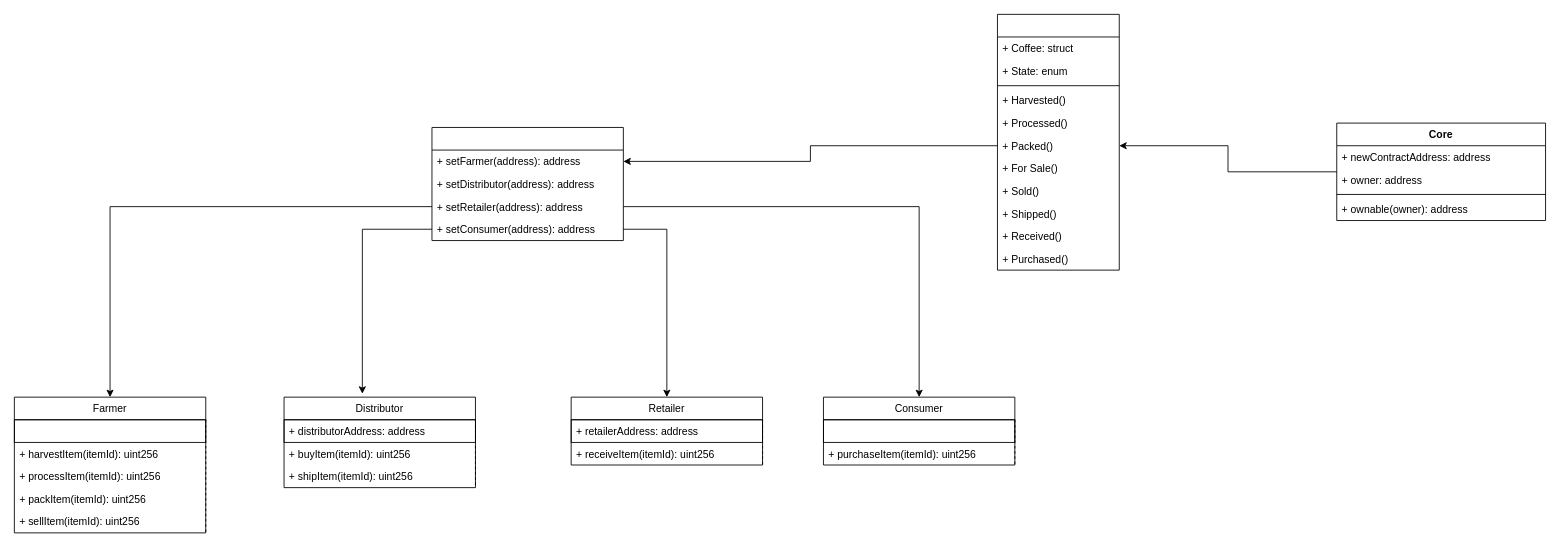
This 1560x547 diagram has some shape labels left out. The shapes that lost their labels are listed below. From the top down, each one's box as (x1, y1, x2, y2) in pixels, then its label:
(997, 13, 1119, 270): Base
(431, 127, 623, 241): Access Control
(13, 419, 206, 442): + farmerAddress: address
(823, 419, 1015, 442): + consumerAddress: address
